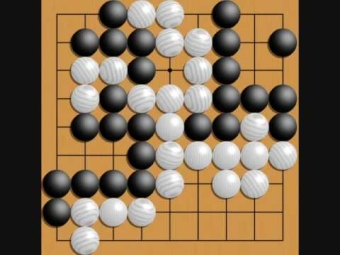black: (99, 85, 128, 113), (43, 170, 71, 198), (43, 199, 71, 227)
crossing: (163, 232, 179, 248), (51, 35, 66, 52), (191, 205, 206, 221), (248, 8, 262, 23), (277, 177, 290, 191), (77, 150, 92, 162), (52, 93, 64, 107), (221, 235, 234, 247), (193, 9, 205, 22), (276, 64, 289, 75), (222, 207, 233, 219)
ne: (277, 8, 291, 22)
nw: (51, 9, 68, 24)
se: (275, 232, 291, 248)
sw: (52, 233, 66, 248)
white: (71, 199, 100, 229), (155, 142, 185, 170), (185, 85, 213, 113)
